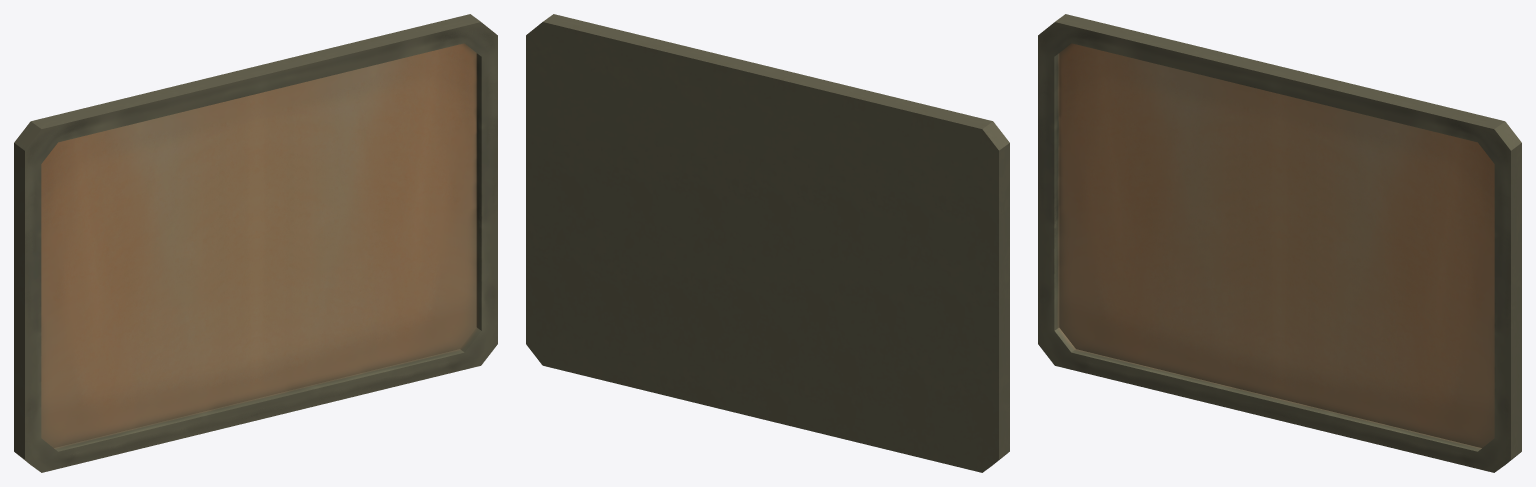
File: VX_Panel.gltf
3 renders of one model, left to right at view 1: azimuth 30°, elevation 25°; view 2: azimuth 150°, elevation 25°; view 3: azimuth 330°, elevation 25°, orthographic.
Parts seen in each view (by area): view 1: VX_Panel; view 2: VX_Panel; view 3: VX_Panel.
Boxes of the visible parts, x1,y1,x2,y2 form: VX_Panel: (14,14,497,472); VX_Panel: (526,14,1009,472); VX_Panel: (1038,14,1521,472).
Bounding box in the file's own units: 2.88 × 2 × 0.115.
1 material, 1 textured.
